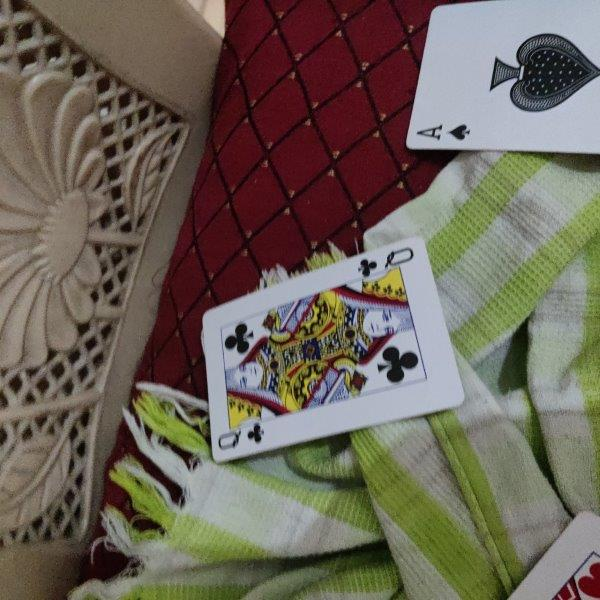Ace of Spades: (406, 2, 600, 156)
Queen of Clubs: (202, 237, 465, 463)
